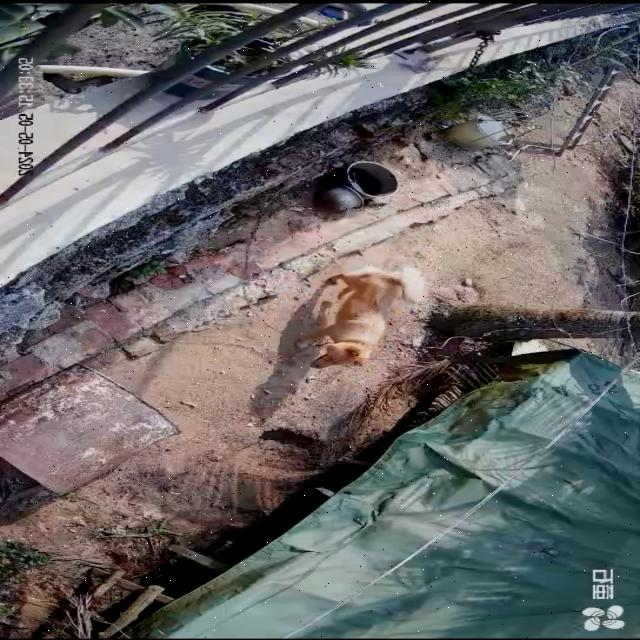dog: (296, 268, 418, 370)
